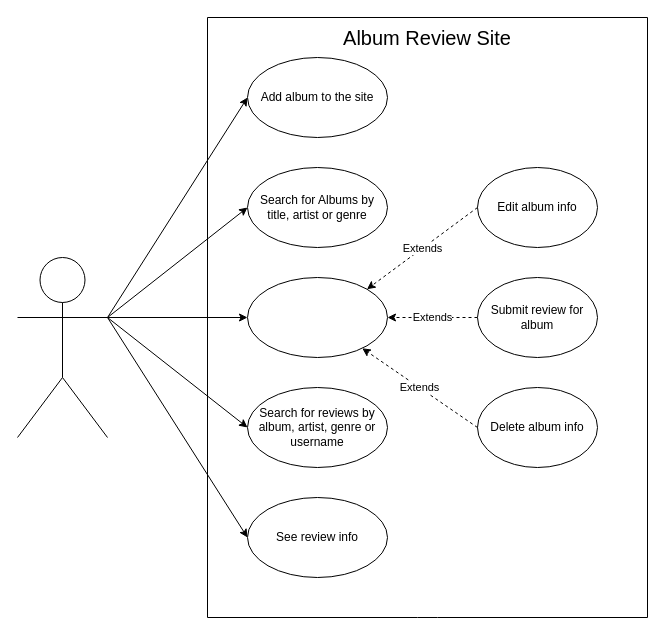
Some shapes in this 666 by 636 pixel diagram are drawn without their labels. Each missing label, with the centre of its shape:
See album info: pixel 317 317
User: pixel 62 347
